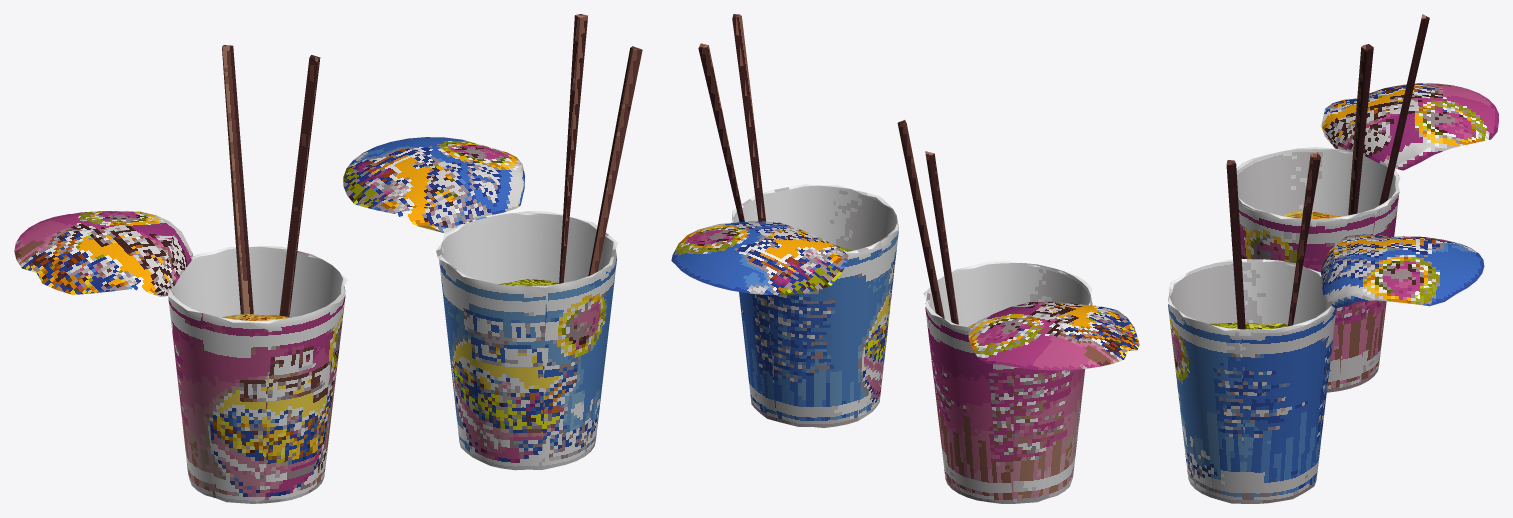
Rendered from cup_noodle2.glb.
The picture shows the model from 3 angles, left to right: view 1: azimuth 30°, elevation 25°; view 2: azimuth 150°, elevation 25°; view 3: azimuth 270°, elevation 25°; orthographic projection. The views are drawn at different scales.
Parts seen in each view (by area): view 1: mesh; view 2: mesh; view 3: mesh.
Part boxes in pixels (x1,y1,x2,y2): mesh: [14, 14, 642, 503]; mesh: [671, 14, 1139, 503]; mesh: [1168, 14, 1498, 503].
Bounding box in the file's own units: 0.156 × 0.11 × 0.0907.
Materials: 1 (1 with a texture image).
